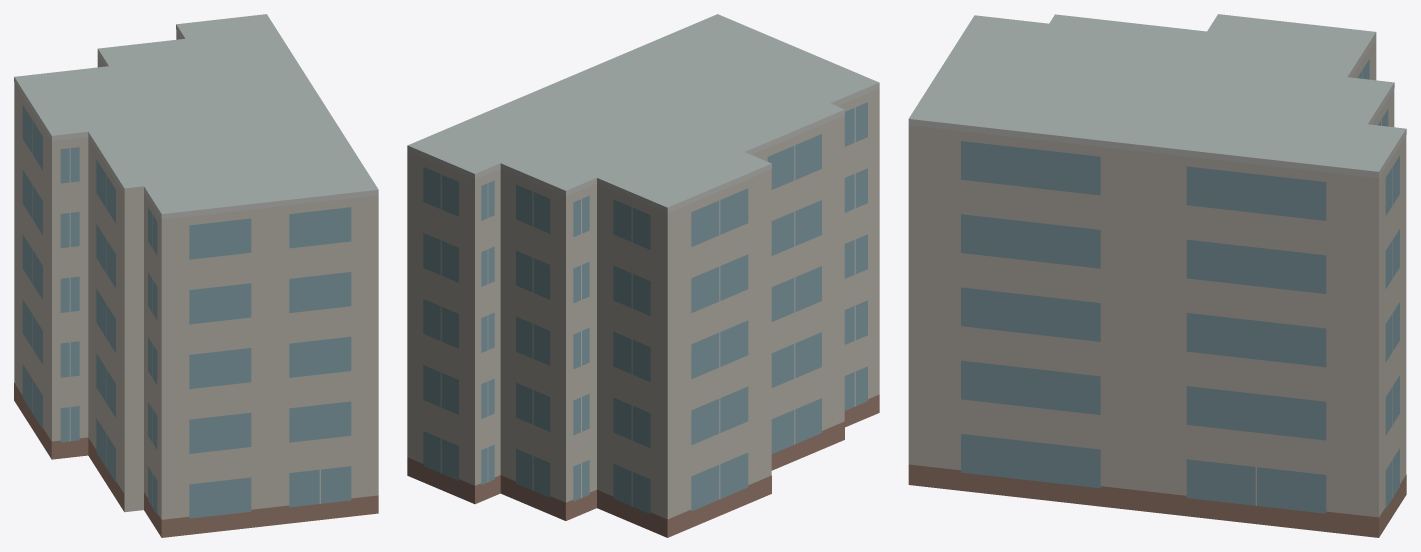
The model's file is survey-upis-32723445.glb.
The picture shows the model from 3 angles, left to right: view 1: azimuth 30°, elevation 25°; view 2: azimuth 150°, elevation 25°; view 3: azimuth 270°, elevation 25°; orthographic projection. The views are drawn at different scales.
Parts seen in each view (by area): view 1: survey-upis-32723445.tmp; view 2: survey-upis-32723445.tmp; view 3: survey-upis-32723445.tmp.
Part boxes in pixels (<box>): survey-upis-32723445.tmp: <box>14,14,378,537</box>; survey-upis-32723445.tmp: <box>407,14,879,537</box>; survey-upis-32723445.tmp: <box>908,14,1406,537</box>.
Size of the model in its own units: 13.14 by 14.2 by 17.52.
